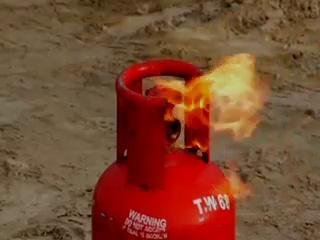Fire: (159, 52, 273, 138)
